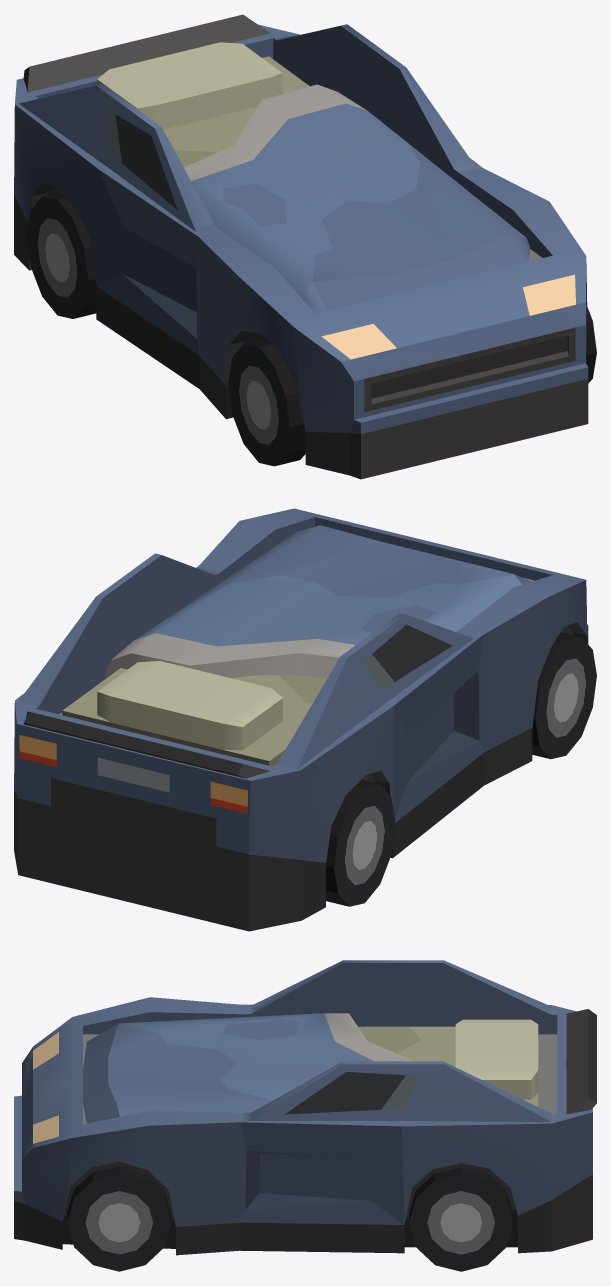
File: AI_Prop_Bed_Boys.fbx
3 views of the same model, one above another, from view 1: azimuth 30°, elevation 25°; view 2: azimuth 150°, elevation 25°; view 3: azimuth 270°, elevation 25° (orthographic). The views are drawn at different scales.
Visible parts, largest first — view 1: AI_Prop_Bed_Boys; view 2: AI_Prop_Bed_Boys; view 3: AI_Prop_Bed_Boys.
Part boxes in pixels (bbox=[...]): AI_Prop_Bed_Boys: bbox=[14, 14, 596, 479]; AI_Prop_Bed_Boys: bbox=[14, 508, 596, 931]; AI_Prop_Bed_Boys: bbox=[14, 960, 596, 1271].
Size of the model in its own units: 2.25 by 1.6 by 4.32.
